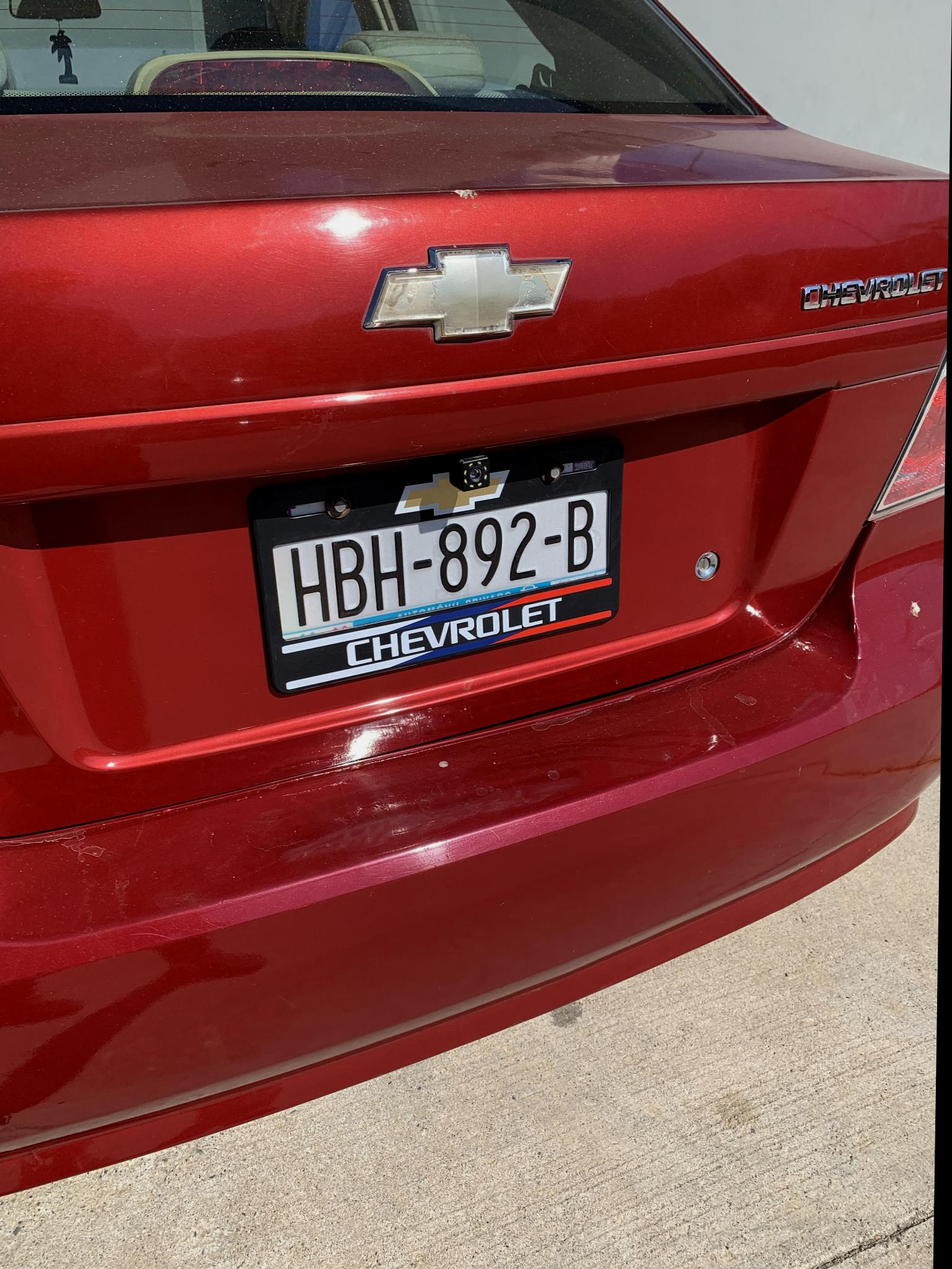License_Plate: (238, 453, 636, 689)
